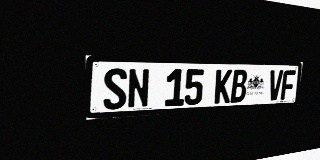1: (165, 69, 186, 106)
5: (184, 69, 204, 105)
B: (230, 70, 248, 103)
F: (280, 70, 296, 100)
K: (214, 69, 232, 104)
N: (127, 68, 150, 109)
S: (103, 68, 127, 110)
V: (267, 70, 283, 101)
